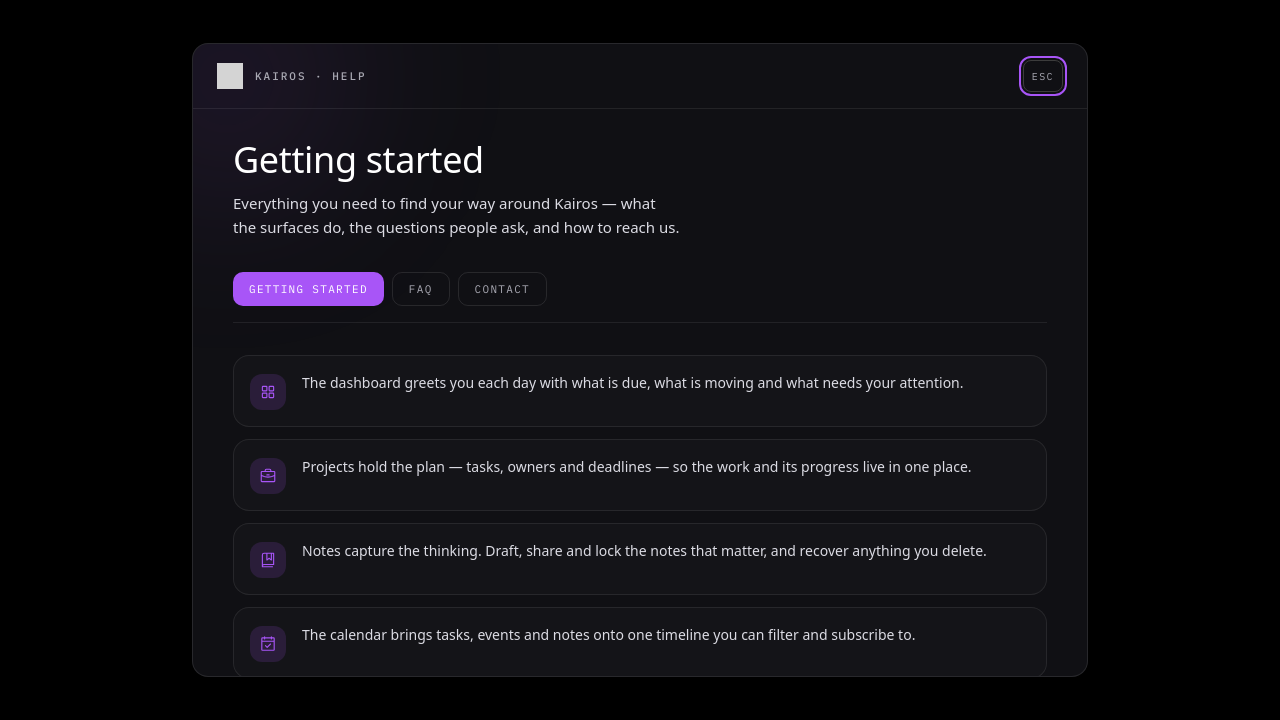
Test: OnboardingSheet › switches to the FAQ tab and shows questions
Step 1. Click the button "FAQ" → (421, 289), box [392, 272, 450, 306]
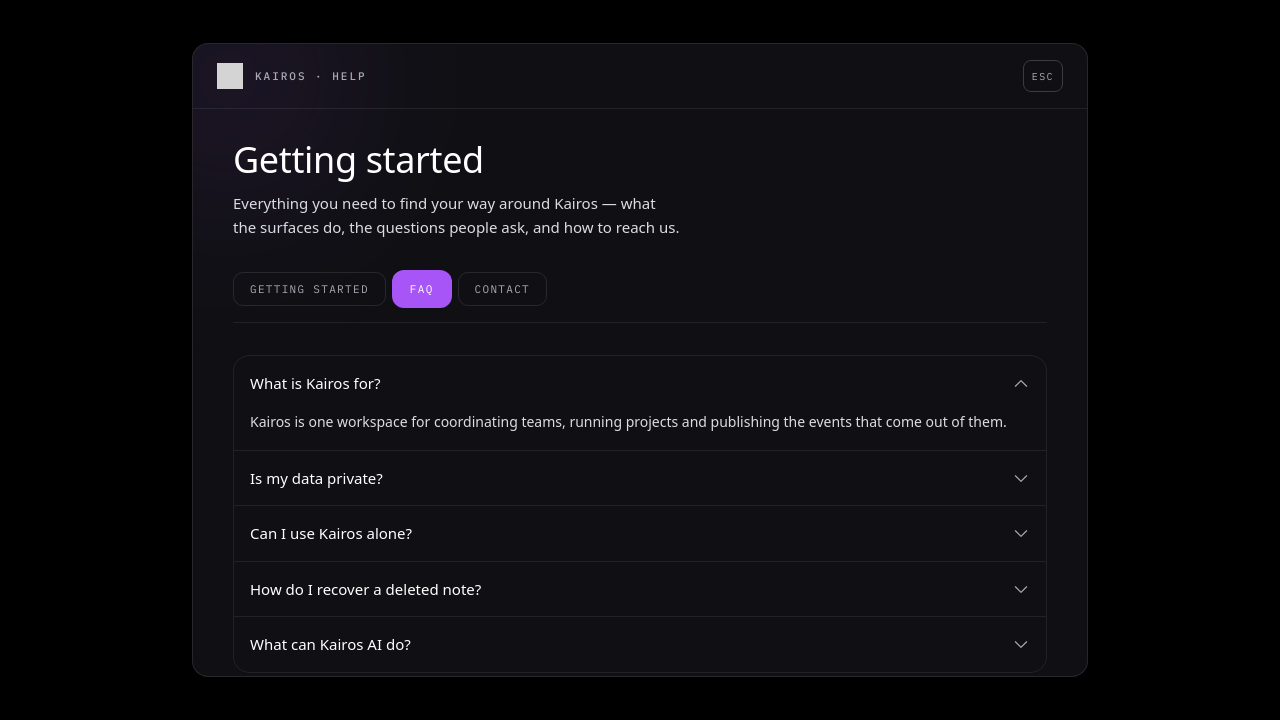
Result: the text "What is Kairos for?" is shown at [250, 372, 380, 395]
